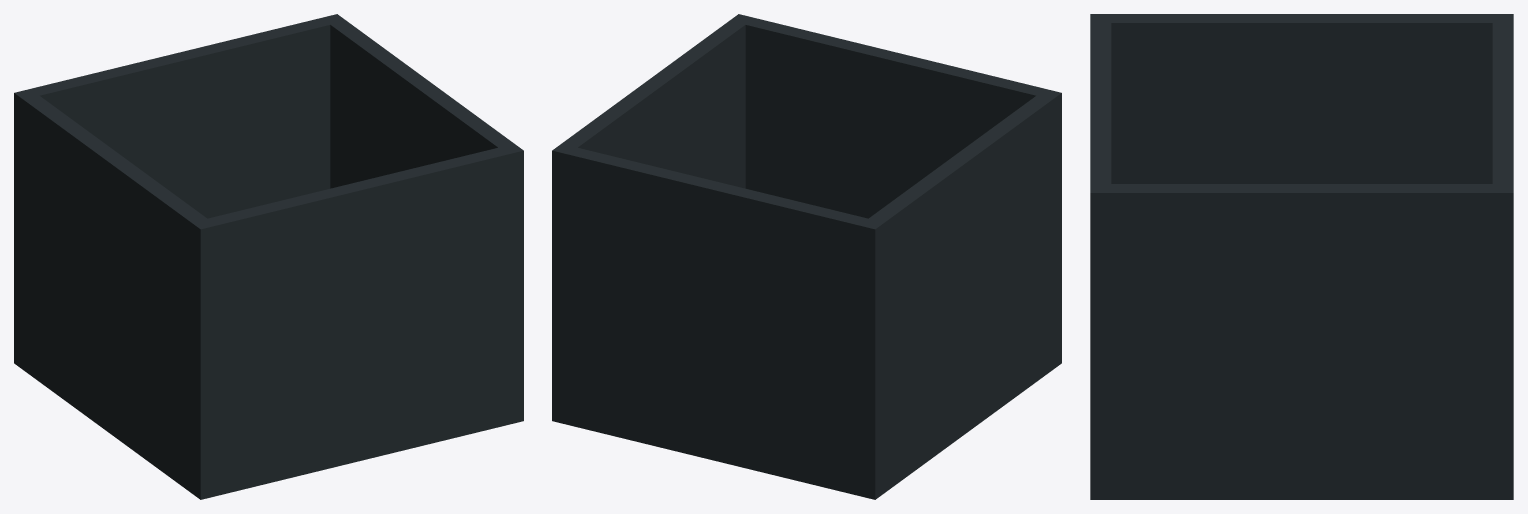
File: shelf.fbx
3 renders of one model, left to right at view 1: azimuth 30°, elevation 25°; view 2: azimuth 150°, elevation 25°; view 3: azimuth 270°, elevation 25°, orthographic. The views are drawn at different scales.
Parts seen in each view (by area): view 1: Cube; view 2: Cube; view 3: Cube.
Part boxes in pixels (x1=…): Cube: x1=14, y1=14, x2=523, y2=499; Cube: x1=552, y1=14, x2=1061, y2=499; Cube: x1=1090, y1=14, x2=1513, y2=499.
Bounding box in the file's own units: 200 × 160 × 200.
